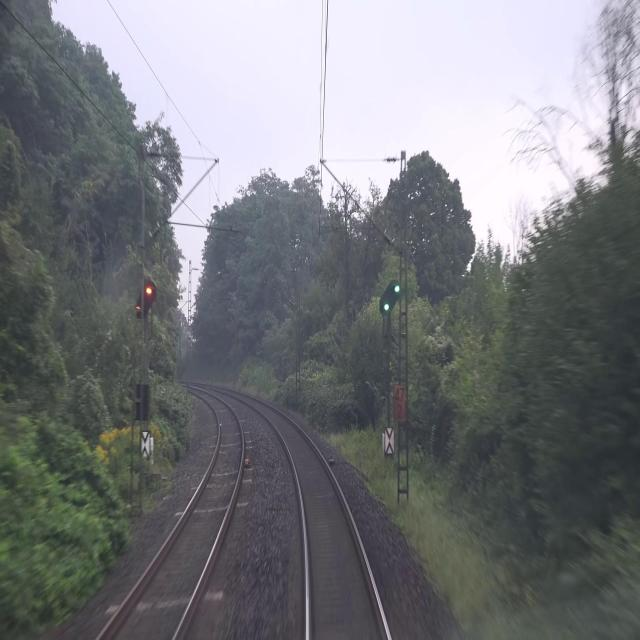rail-track: (102, 396, 240, 639), (257, 404, 387, 639)
